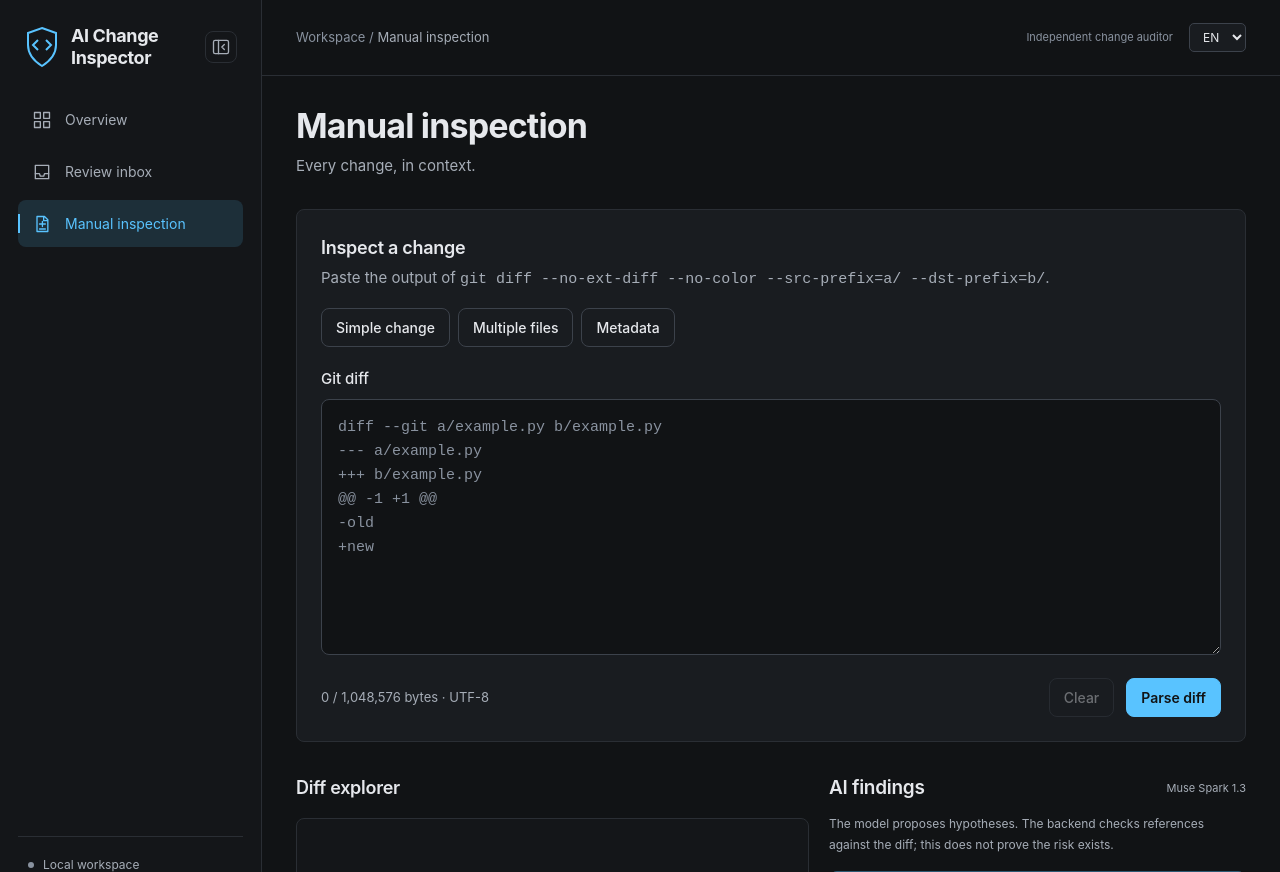
diff workflow › displays parser errors with their source line
Click the button "Simple change".
click(385, 328)  # box 321,308 -> 450,347
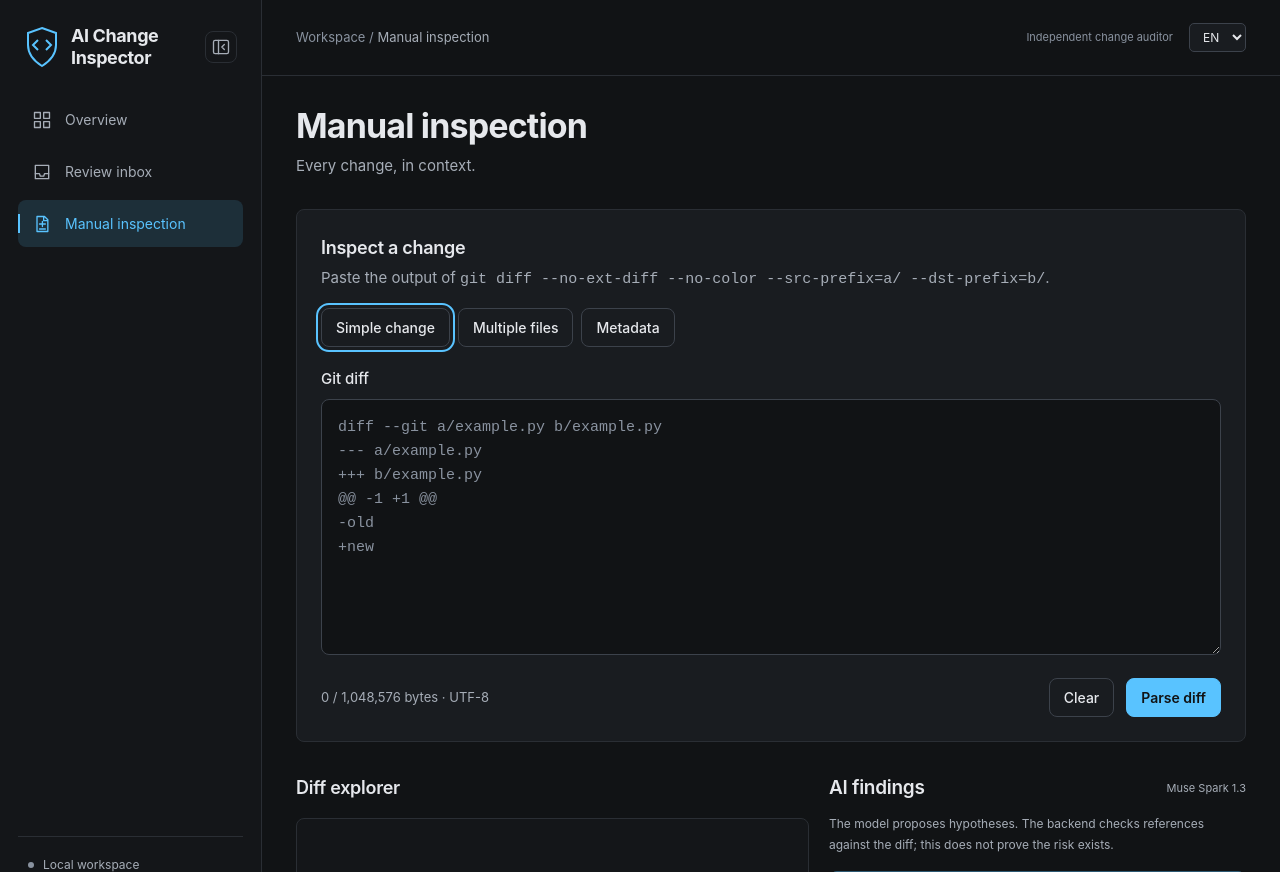
Click the button "Parse diff".
click(1174, 697)  # box 1126,678 -> 1221,717
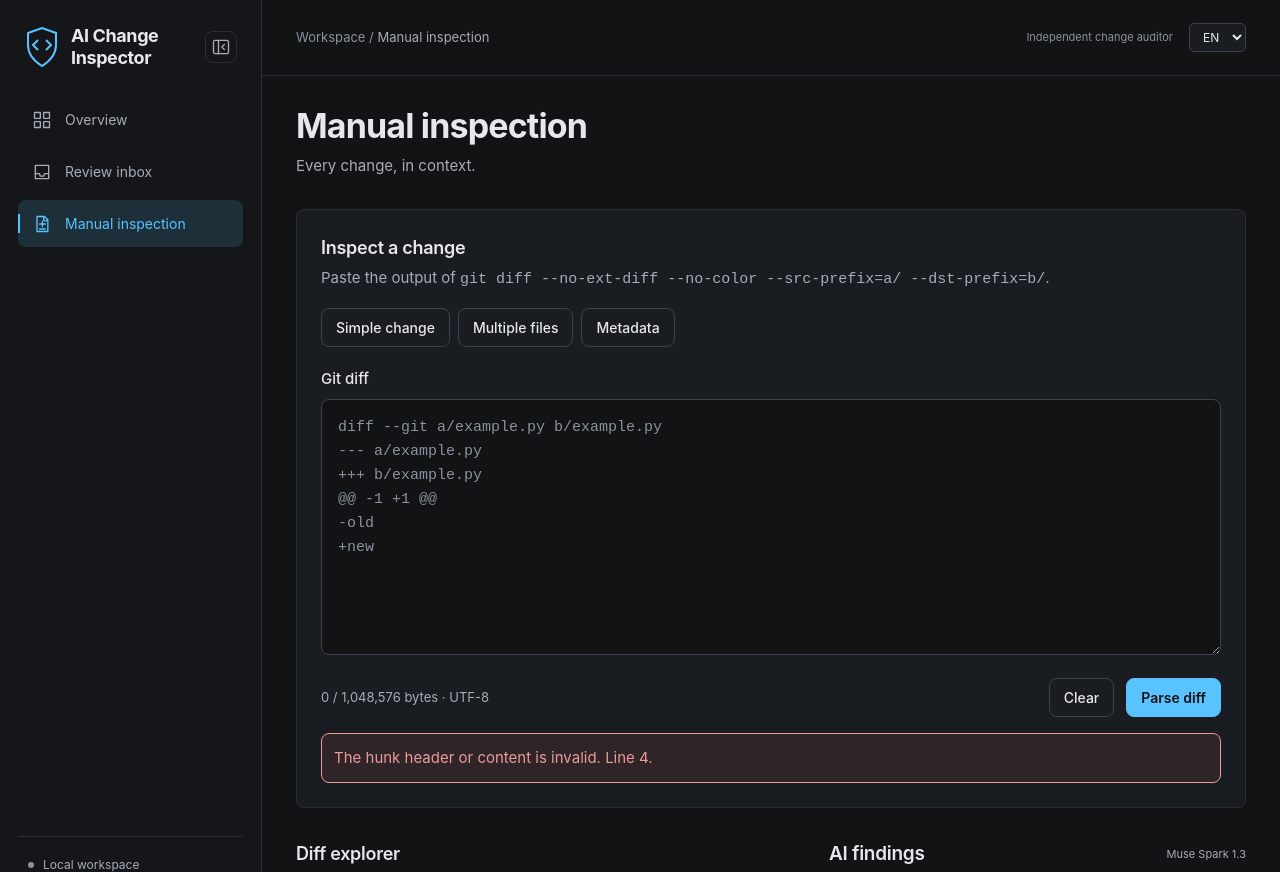
expect the message reads "The hunk header or content is invalid. Line 4.": met, box 334,748 -> 653,767
